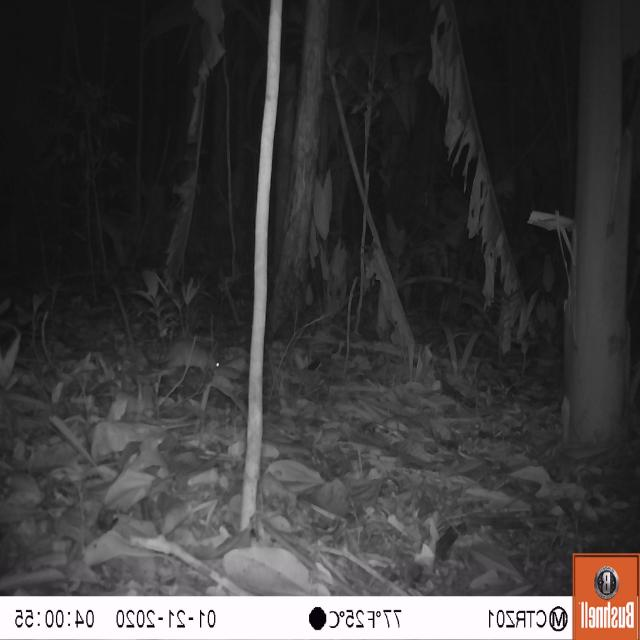Rodent: (140, 316, 230, 403)
